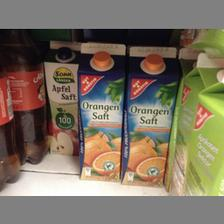Saft: (118, 45, 180, 185), (76, 41, 124, 181), (1, 29, 47, 162), (43, 37, 79, 154)
